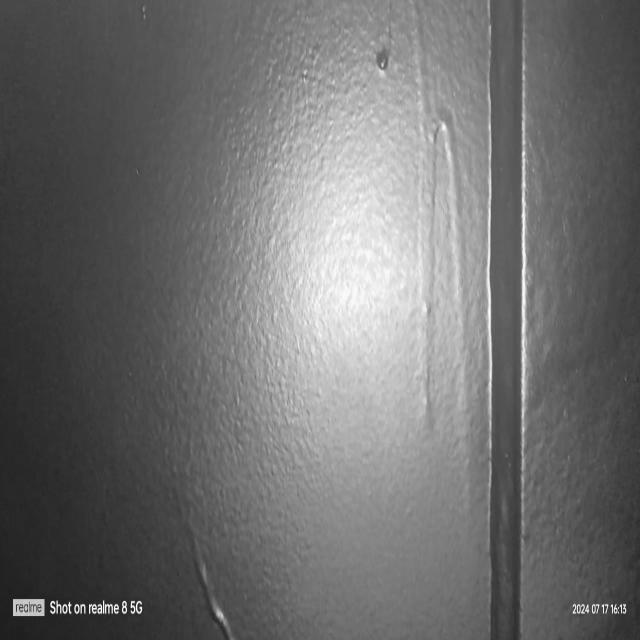paint drips: (362, 0, 482, 537), (150, 417, 259, 640)
